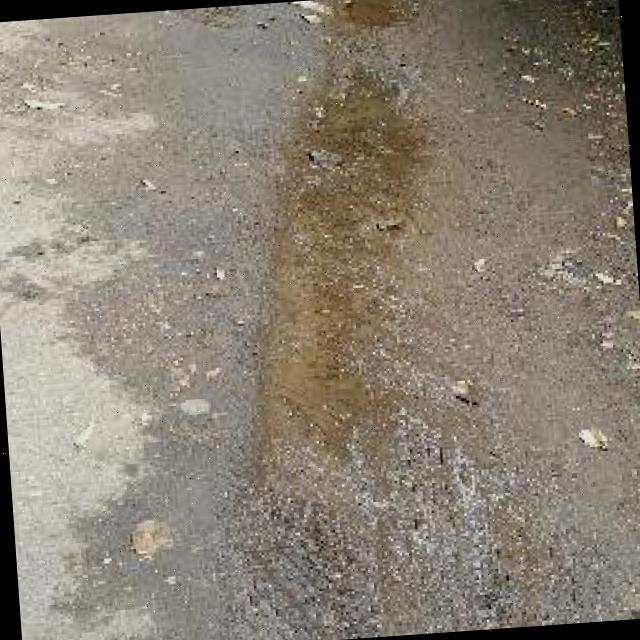stagnation: (240, 46, 453, 468)
